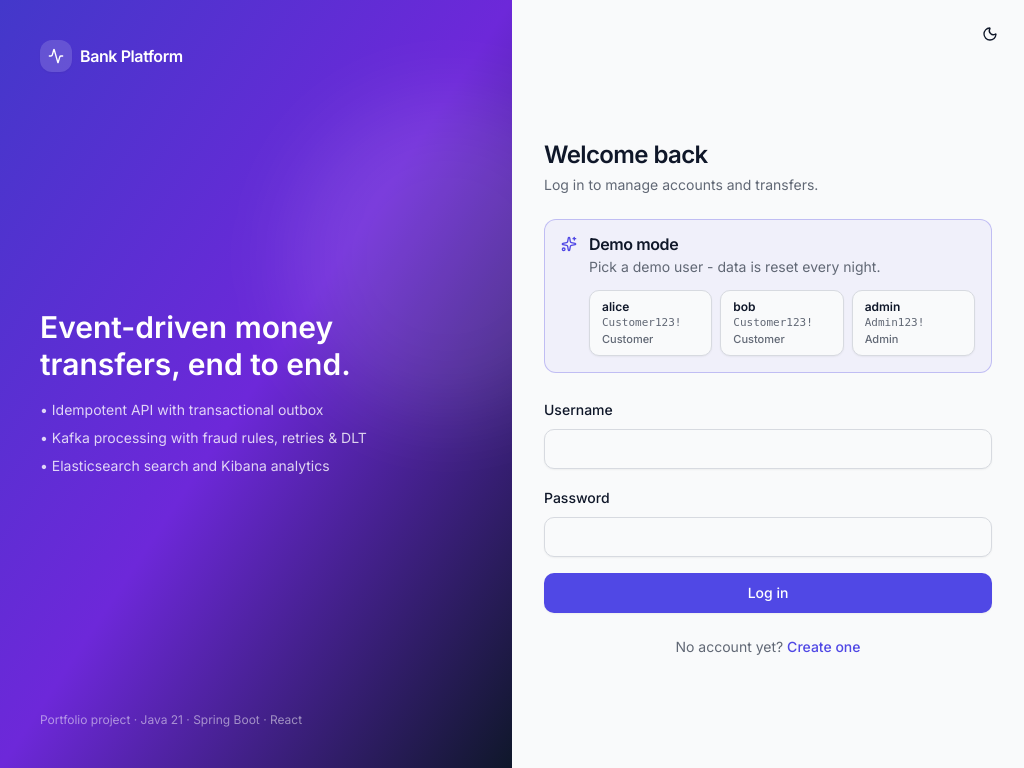
Test: LoginPage › shows the ProblemDetail message on bad credentials
Type "alice" into the field labelled "Username" at (768, 449), box [544, 429, 992, 469]
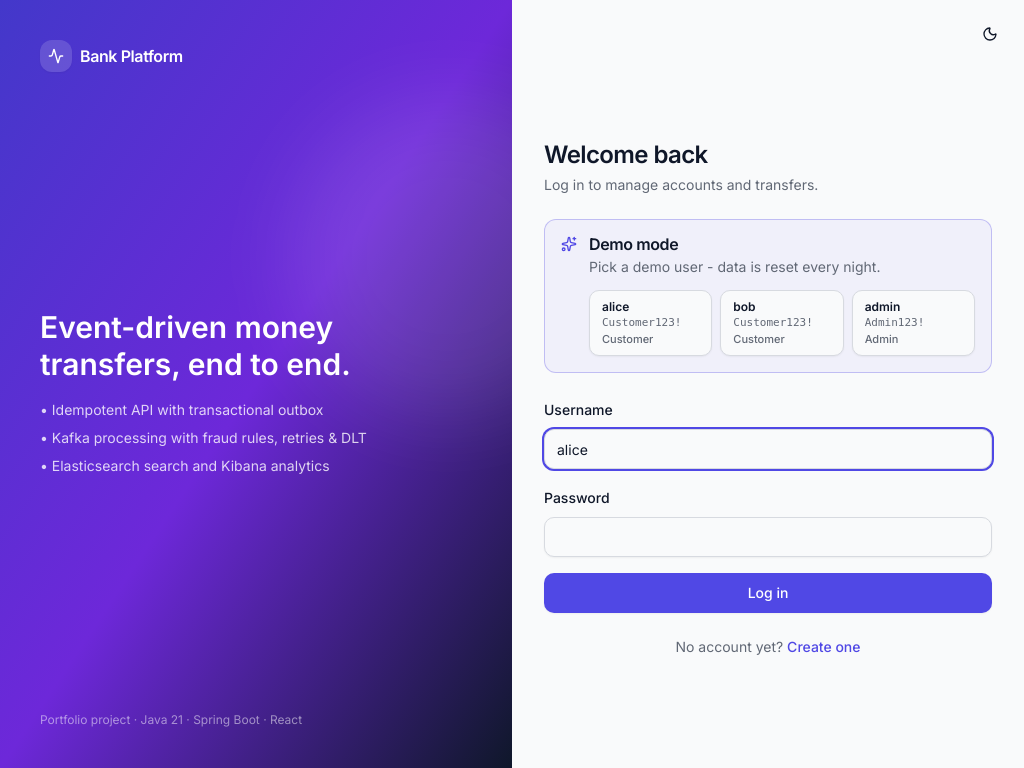
Type "wrong" into the password field labelled "Password" at (768, 537), box [544, 517, 992, 557]
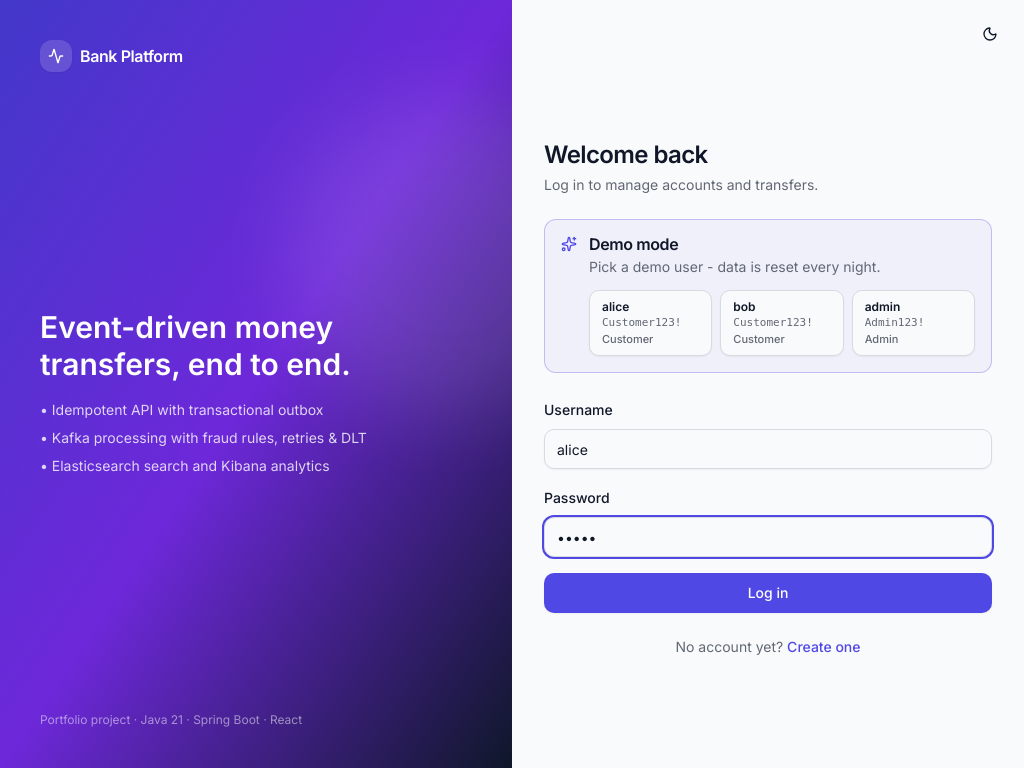
Click the button "Log in" at (768, 593), box [544, 573, 992, 613]
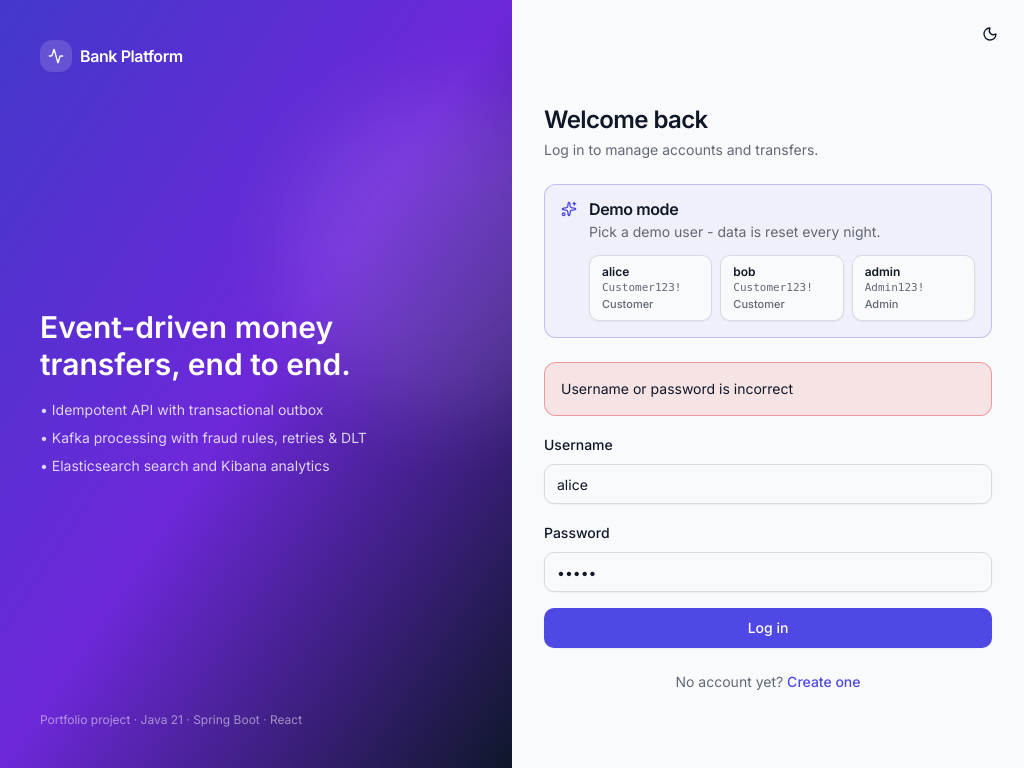
Check: the text "Username or password is incorrect" is shown, box [561, 380, 793, 397]
